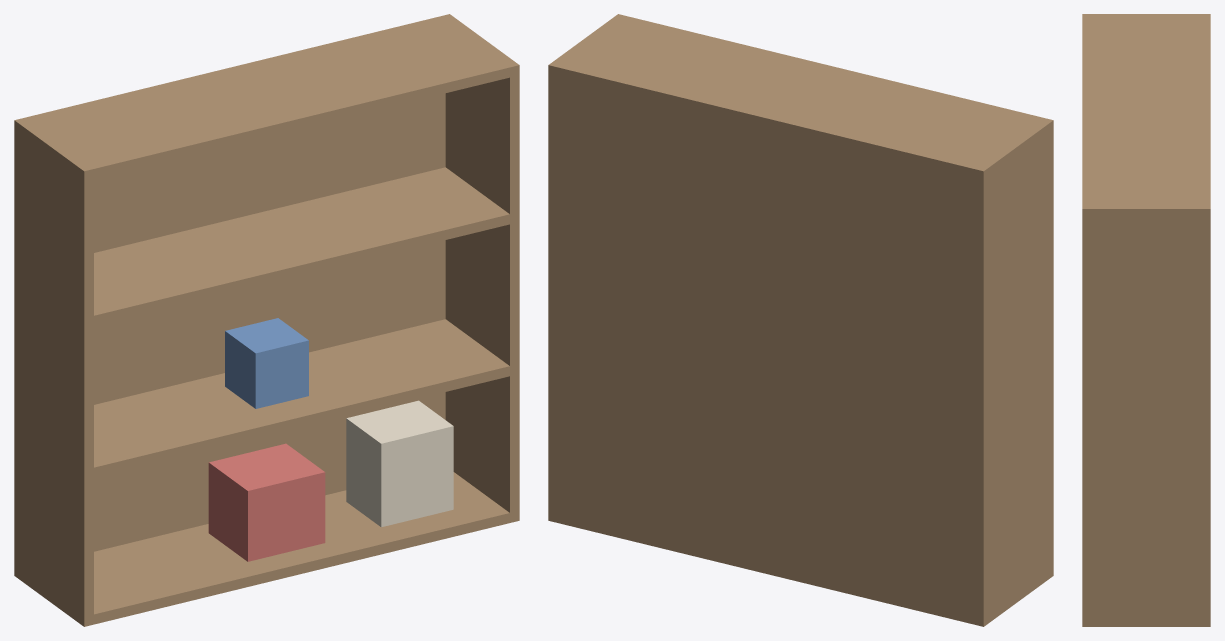
Rendered from shelf.glb.
The picture shows the model from 3 angles, left to right: view 1: azimuth 30°, elevation 25°; view 2: azimuth 150°, elevation 25°; view 3: azimuth 270°, elevation 25°; orthographic projection. The views are drawn at different scales.
Visible parts, largest first — view 1: Shelf; view 2: Shelf; view 3: Shelf.
Boxes of the visible parts, x1,y1,x2,y2 form: Shelf: (14,14,519,626); Shelf: (548,14,1053,626); Shelf: (1082,14,1210,626).
Size of the model in its own units: 1.8 by 1.8 by 0.5.
